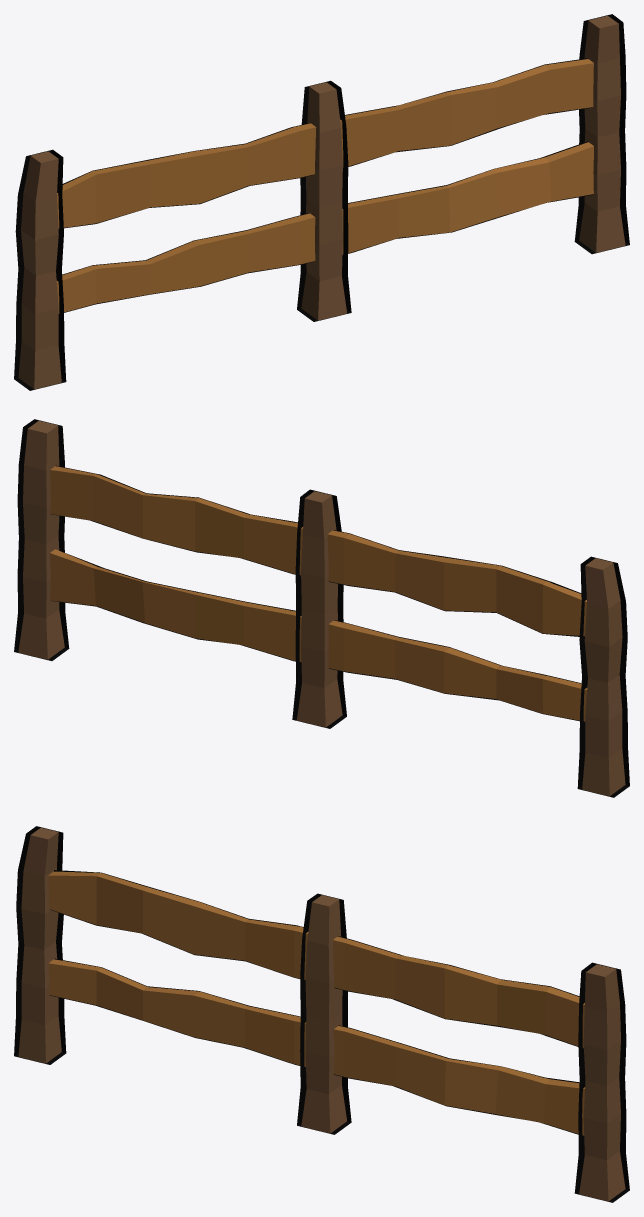
Rendered from Fence_Shaded.fbx.
3 renders of one model, top to bottom at view 1: azimuth 30°, elevation 25°; view 2: azimuth 150°, elevation 25°; view 3: azimuth 330°, elevation 25°, orthographic.
Visible parts, largest first — view 1: Cube.000, Cube.001; view 2: Cube.000, Cube.001; view 3: Cube.000, Cube.001.
Part boxes in pixels (x1,y1,x2,y2): Cube.000: [18, 15, 625, 389]; Cube.001: [14, 14, 629, 390]; Cube.000: [18, 420, 625, 796]; Cube.001: [14, 419, 629, 797]; Cube.000: [18, 827, 625, 1201]; Cube.001: [14, 826, 629, 1202].
Size of the model in its own units: 646 by 229 by 31.96.
